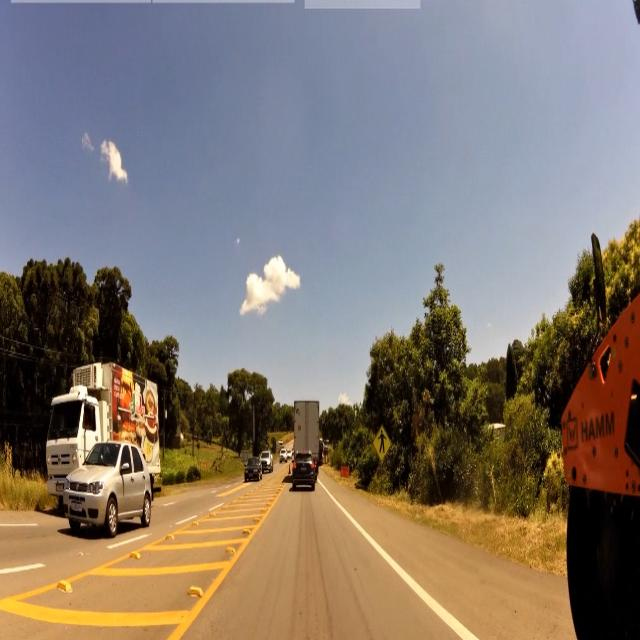A-32a: (374, 426, 391, 460)
